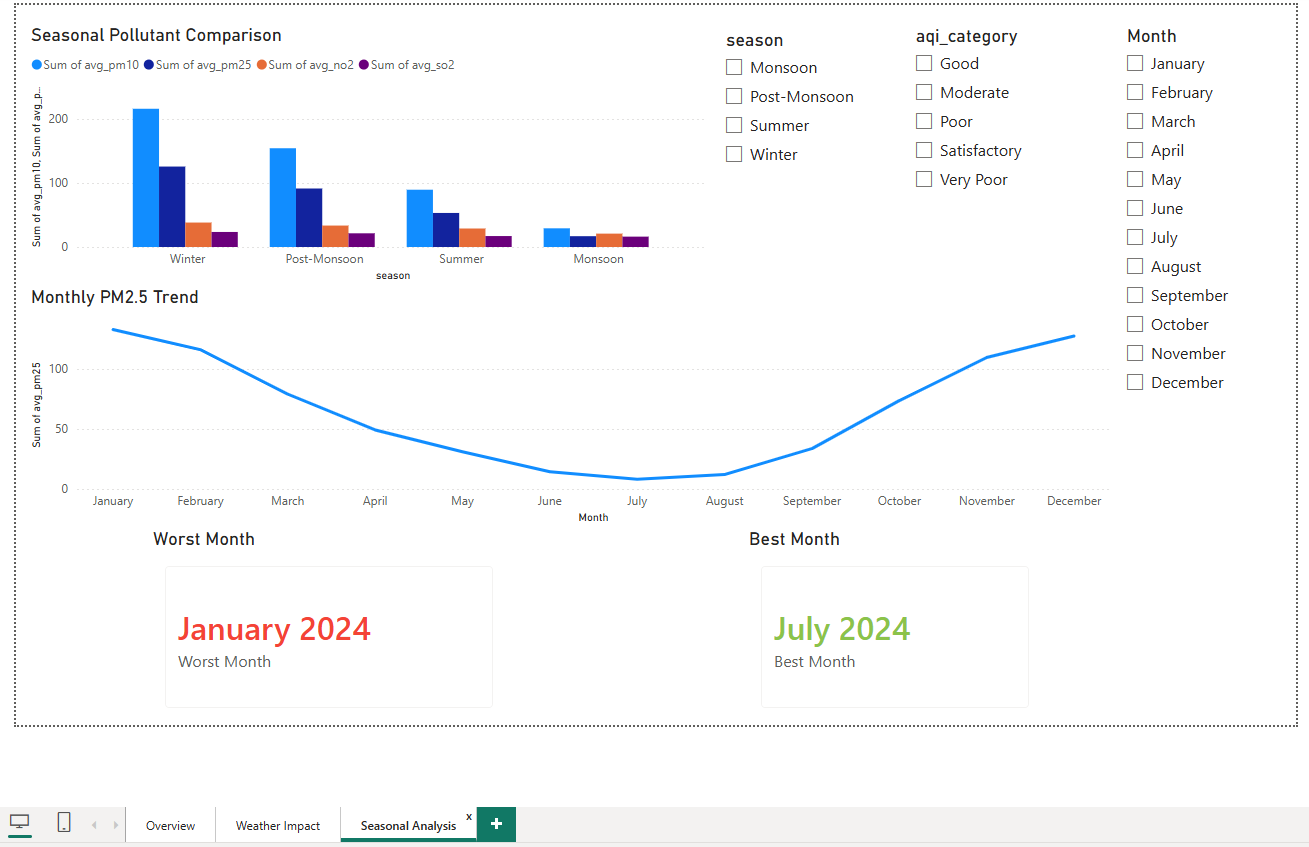

What the dashboard file says about the page in this screenshot:
{"tool":"powerbi","page":{"name":"Seasonal Analysis","canvas":[1280,720],"ordinal":2},"visuals":[{"type":"clusteredColumnChart","title":"Seasonal Pollutant Comparison","fields":{"Category":["seasonal_summary.season"],"Y":["Sum(seasonal_summary.avg_pm10)","Sum(seasonal_summary.avg_pm25)","Sum(seasonal_summary.avg_no2)","Sum(seasonal_summary.avg_so2)"]},"box":[9.7,19.5,687.7,261.6],"z":0},{"type":"lineChart","title":"Monthly PM2.5 Trend","fields":{"Y":["Sum(monthly_summary.avg_pm25)"],"Category":["monthly_summary.month.Variation.Date Hierarchy.Month"]},"box":[9.7,281.1,1088.4,242.2],"z":1000},{"type":"cardVisual","title":"Worst Month","fields":{"Data":["monthly_summary.Worst Month"]},"box":[132.1,522.9,361.5,197.2],"z":2000},{"type":"cardVisual","title":"Best Month","fields":{"Data":["monthly_summary.Best Month"]},"box":[728.4,522.9,301.8,197.2],"z":3000},{"type":"slicer","fields":{"Values":["daily_dashboard.season"]},"box":[697.4,19.5,189.7,171.2],"z":3001},{"type":"slicer","fields":{"Values":["daily_dashboard.date.Variation.Date Hierarchy.Month"]},"box":[1098.1,14.6,164.4,391],"z":3002},{"type":"slicer","fields":{"Values":["daily_dashboard.aqi_category"]},"box":[887.1,14.6,188.7,215.9],"z":3003}]}

Visuals, with their boxes on the page's 1280x720 design canvas (x1, y1, x2, y2). These are canvas units, not pixel positions in the 1309x847 screenshot, which may show the page scaled, cropped or inside an application window:
"Seasonal Pollutant Comparison" clusteredColumnChart: [10, 20, 697, 281]
"Monthly PM2.5 Trend" lineChart: [10, 281, 1098, 523]
"Worst Month" cardVisual: [132, 523, 494, 720]
"Best Month" cardVisual: [728, 523, 1030, 720]
slicer - daily_dashboard.season: [697, 20, 887, 191]
slicer - daily_dashboard.date.Variation.Date Hierarchy.Month: [1098, 15, 1262, 406]
slicer - daily_dashboard.aqi_category: [887, 15, 1076, 230]
